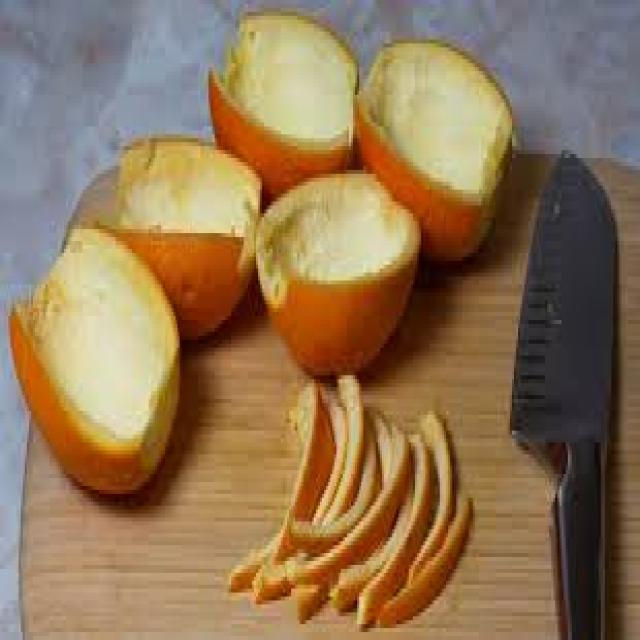Organik: (249, 378, 477, 624), (12, 227, 180, 488), (357, 32, 522, 251), (260, 168, 420, 370), (113, 139, 255, 333), (213, 8, 356, 198)
